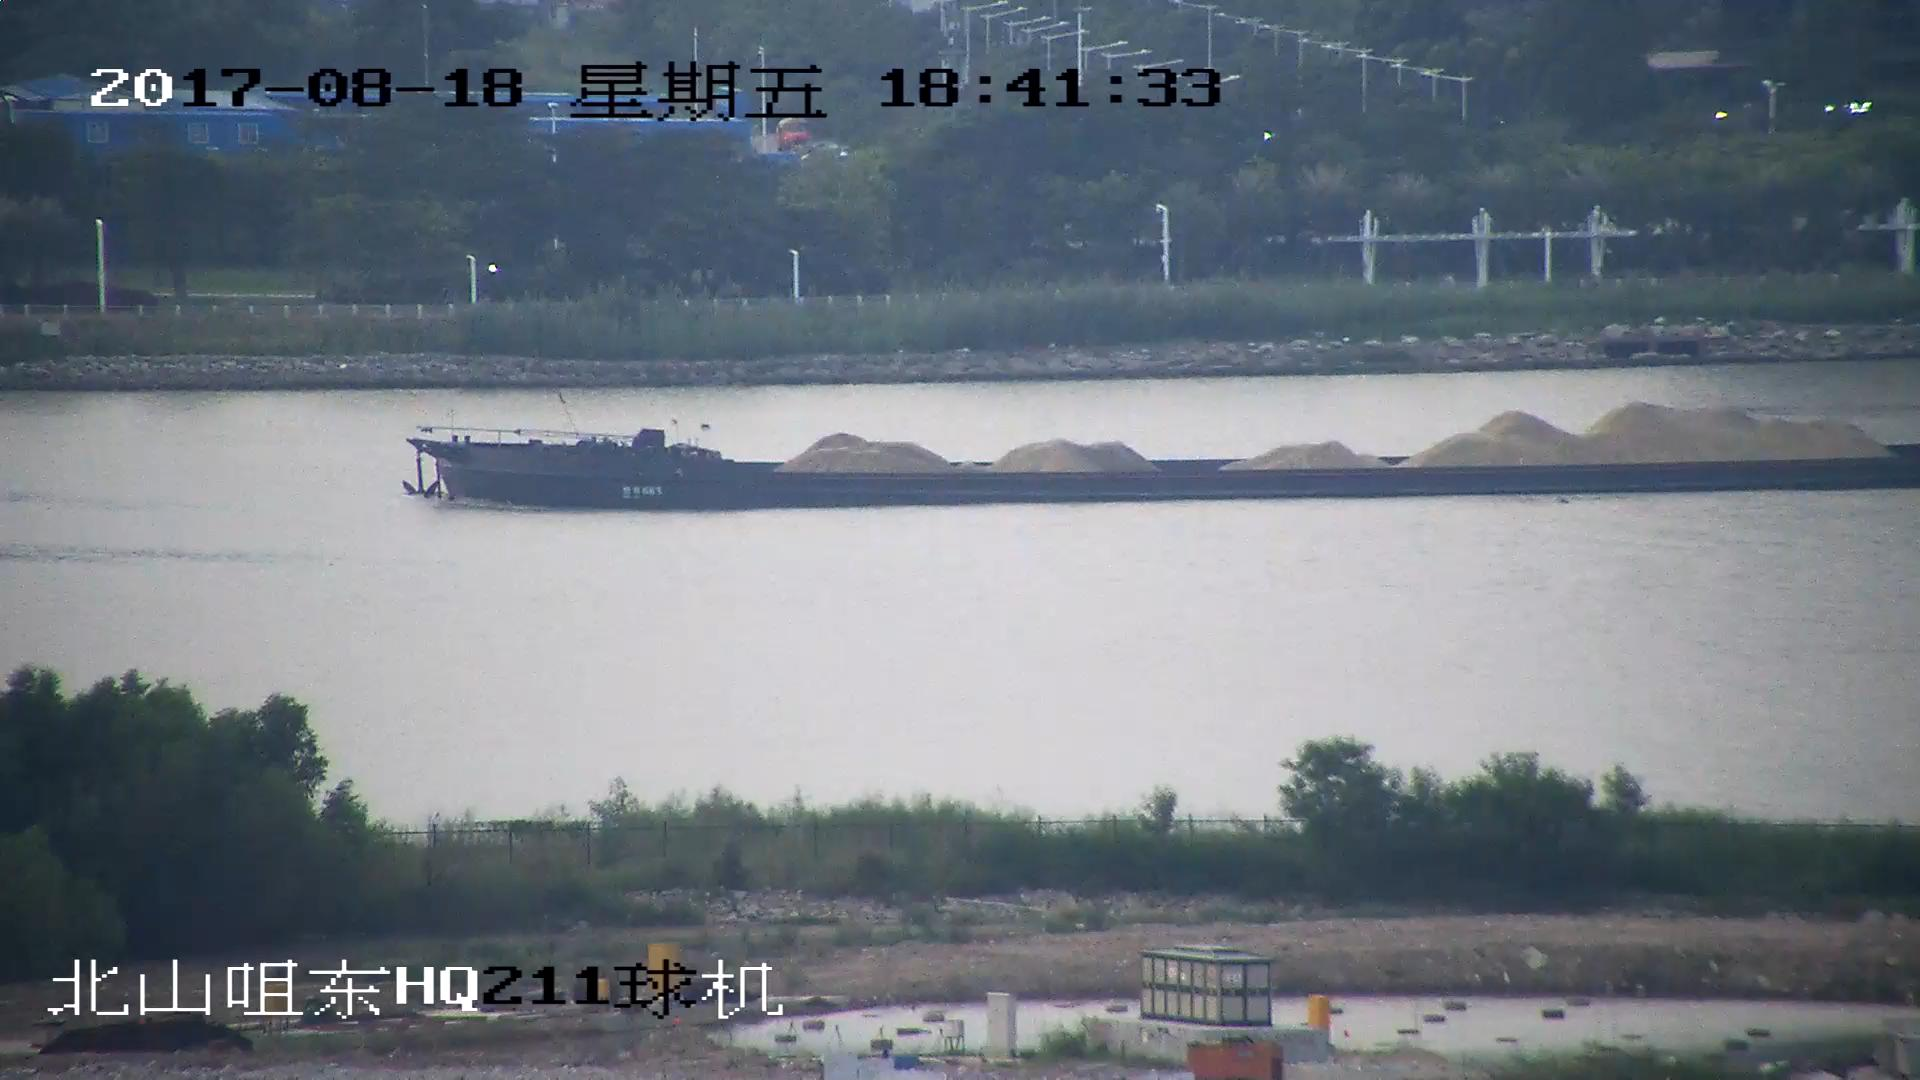ore carrier: (404, 396, 1920, 513)
